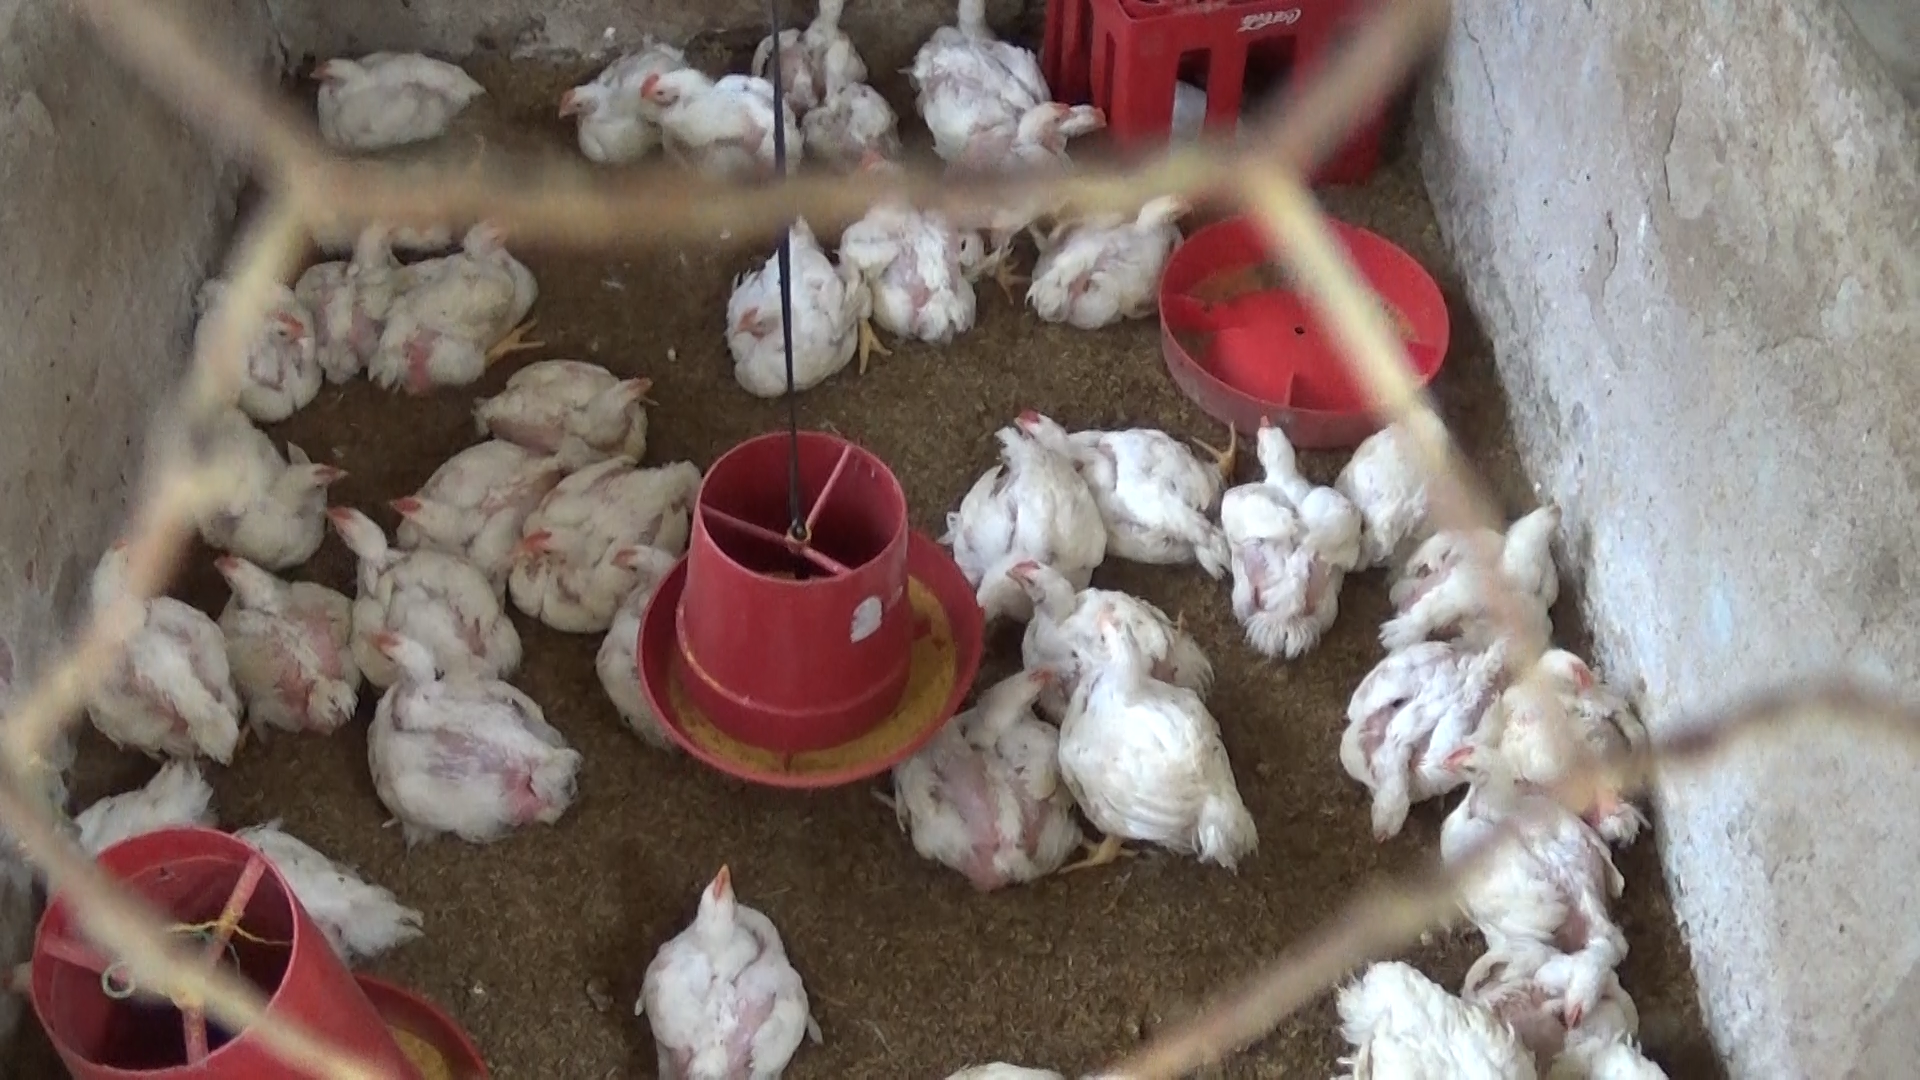Pollos: (1051, 603, 1255, 907), (349, 626, 593, 851), (880, 665, 1083, 891), (1196, 409, 1357, 688), (1311, 632, 1516, 848), (632, 857, 831, 1080), (1411, 902, 1660, 1080), (1416, 742, 1625, 938), (309, 498, 517, 684), (1486, 622, 1658, 843), (71, 531, 236, 746), (1382, 469, 1594, 633), (167, 392, 356, 572), (1026, 386, 1222, 558), (502, 452, 698, 615), (202, 551, 376, 732), (918, 11, 1116, 166), (992, 551, 1216, 687), (938, 429, 1096, 607), (377, 222, 541, 392), (837, 156, 978, 349), (717, 207, 856, 404), (294, 36, 488, 162), (1031, 187, 1193, 328), (291, 222, 429, 386), (186, 270, 328, 426), (591, 533, 694, 748), (462, 336, 657, 444), (381, 431, 545, 551), (632, 70, 804, 179), (553, 38, 694, 170), (752, 9, 865, 84)
